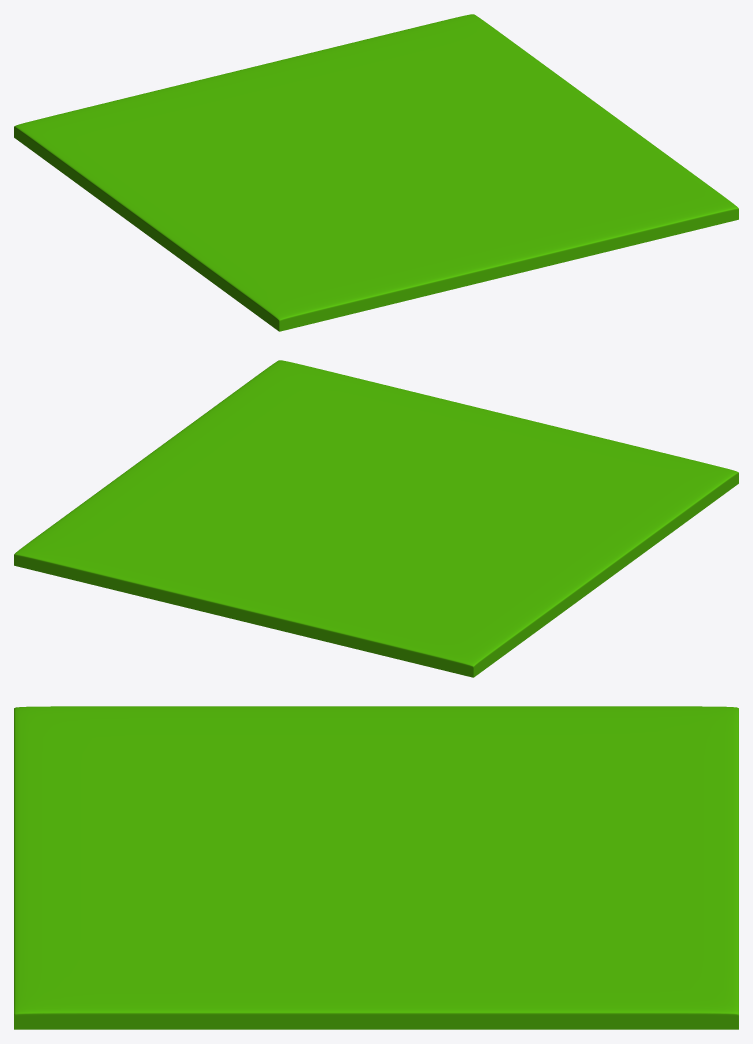
Rendered from mono_tahta.fbx.
3 renders of one model, top to bottom at view 1: azimuth 30°, elevation 25°; view 2: azimuth 150°, elevation 25°; view 3: azimuth 270°, elevation 25°, orthographic. The views are drawn at different scales.
Visible parts, largest first — view 1: Cube; view 2: Cube; view 3: Cube.
Boxes of the visible parts, <box> form: Cube: <box>14,14,738,331</box>; Cube: <box>14,360,738,677</box>; Cube: <box>14,706,738,1029</box>.
Size of the model in its own units: 219 by 6.31 by 219.
